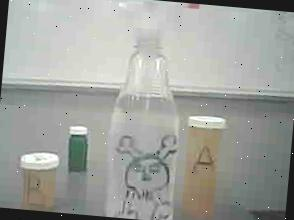Bottle A: (180, 114, 228, 220)
Bottle B: (14, 149, 62, 213)
Bottle C: (64, 123, 94, 176)
hazard: (93, 0, 200, 220)
